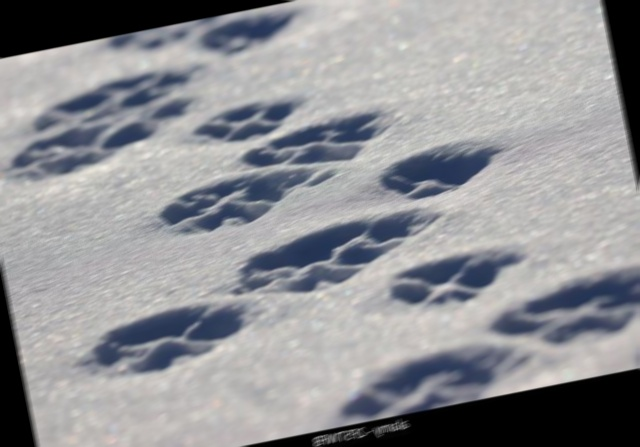fox: (54, 275, 274, 410), (368, 225, 542, 339), (371, 116, 524, 217)
